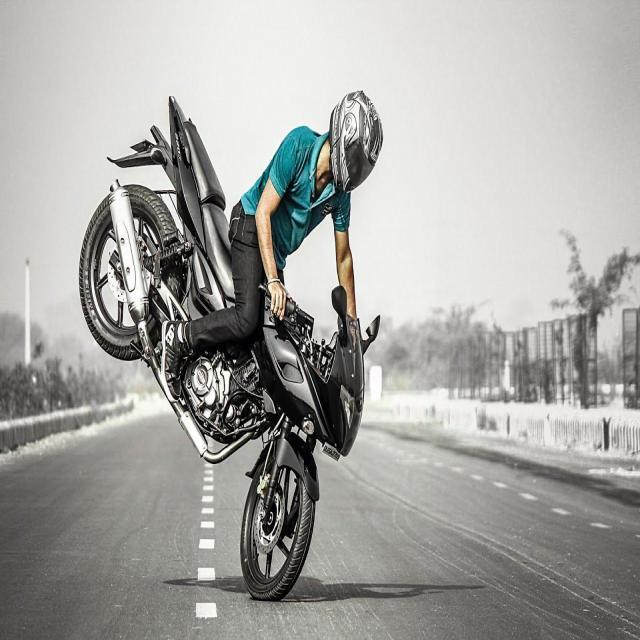Wheeling: (95, 134, 304, 535)
